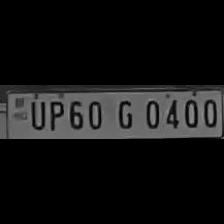0: (84, 97, 106, 130), (140, 96, 160, 130), (181, 96, 199, 128), (200, 96, 218, 128)
4: (162, 95, 180, 129)
6: (64, 97, 84, 131)
G: (112, 96, 134, 130)
P: (46, 97, 64, 131)
U: (27, 98, 45, 130)
